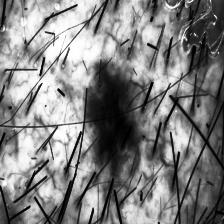Benign Marking or Mole: (85, 60, 137, 177)
